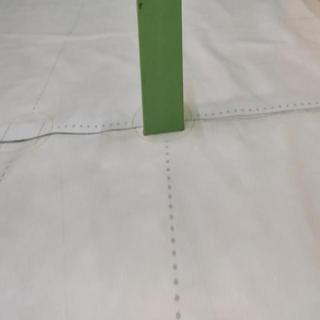greenbox: (133, 1, 188, 133)
